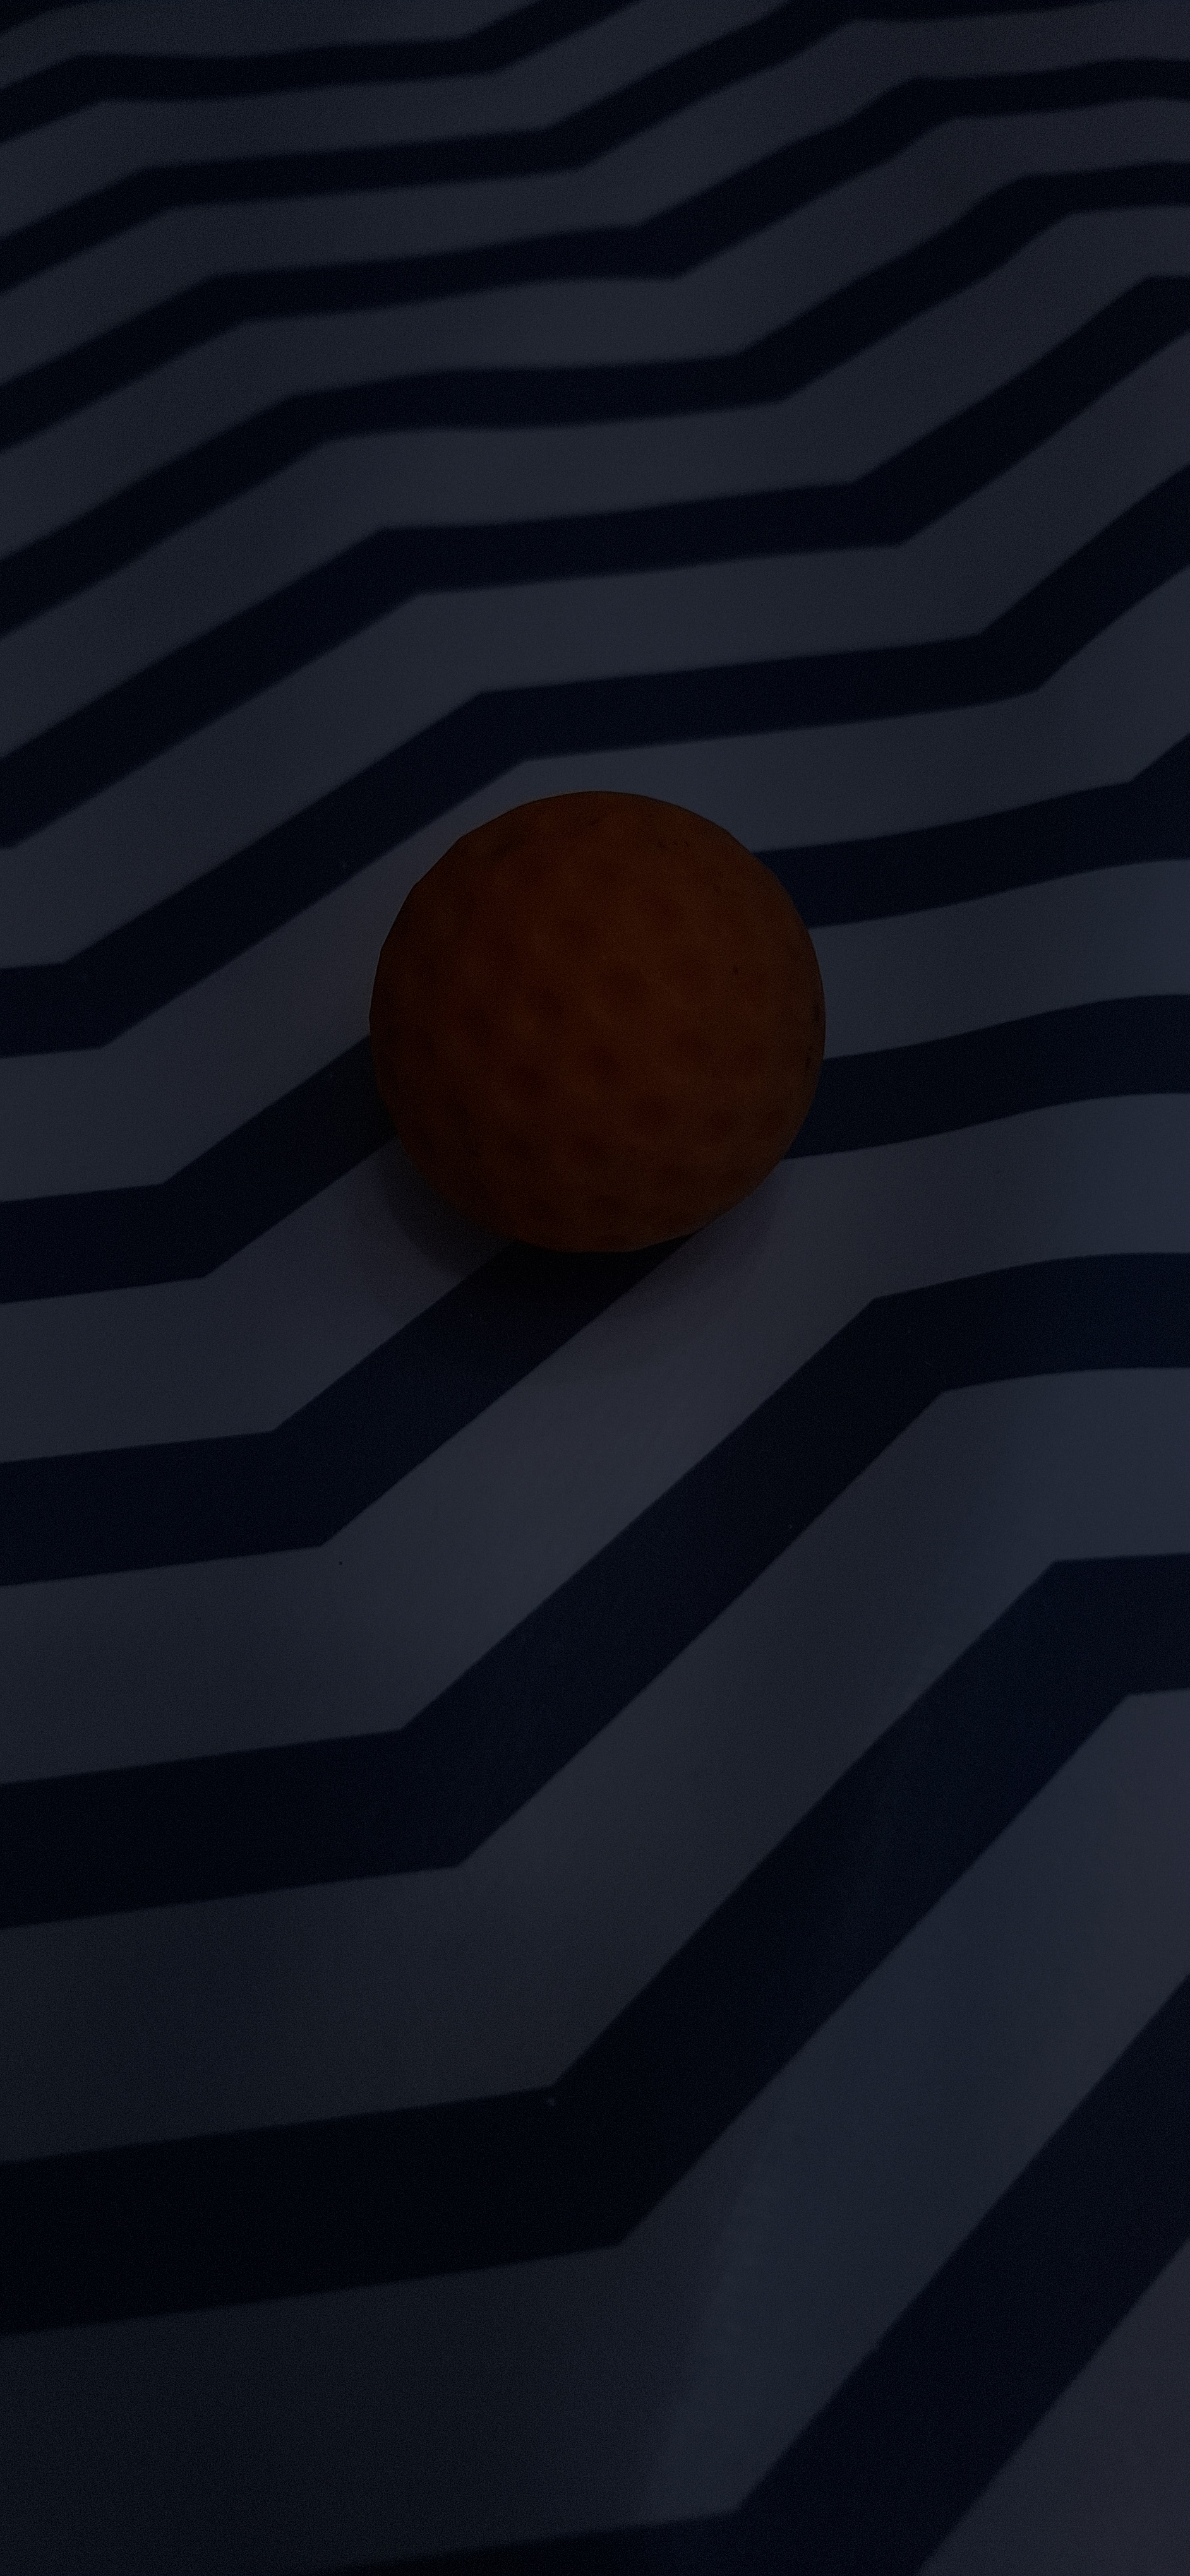ball: (363, 779, 587, 1789)
